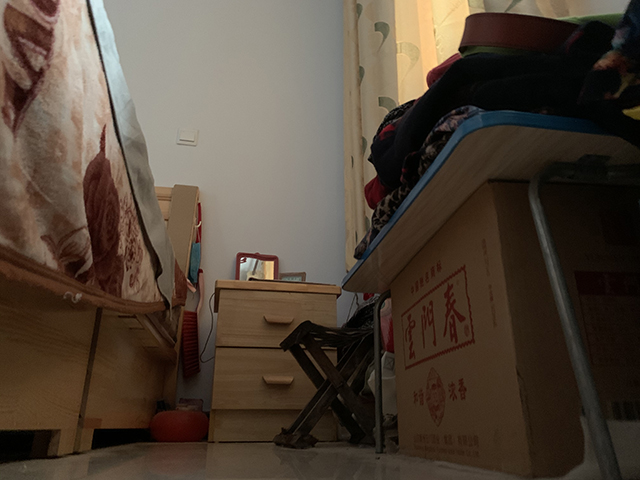bed: (1, 1, 206, 461)
cabinet: (207, 278, 343, 443)
stool: (271, 319, 377, 450)
table: (341, 110, 637, 480)
